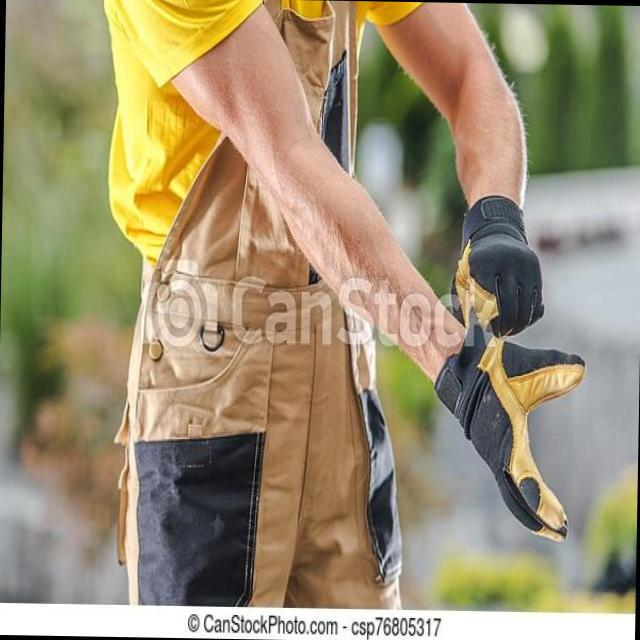Gloves: (439, 326, 590, 568), (447, 200, 549, 340)
